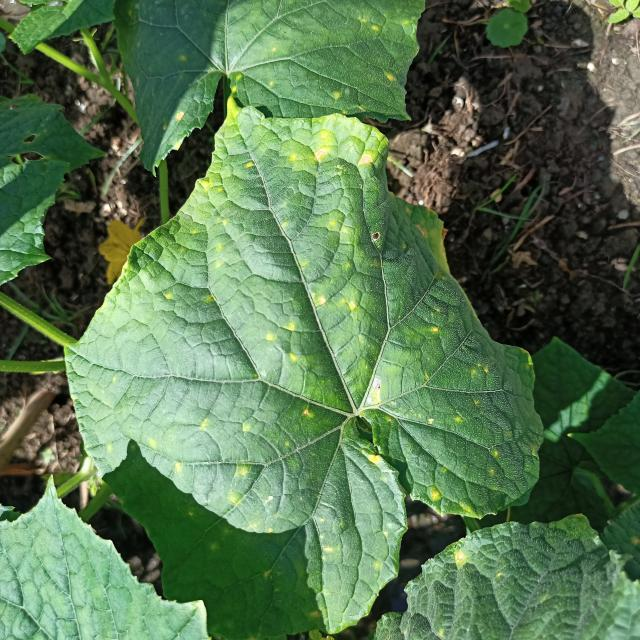disease_cucumber: (261, 121, 403, 318), (152, 400, 324, 555), (259, 316, 311, 367)
